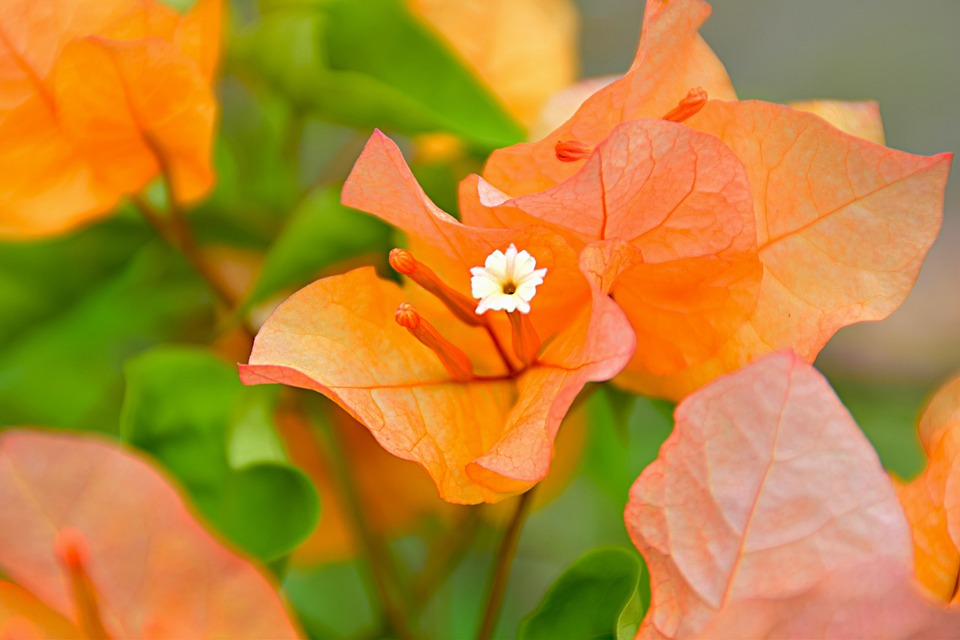rose: (246, 117, 773, 505)
